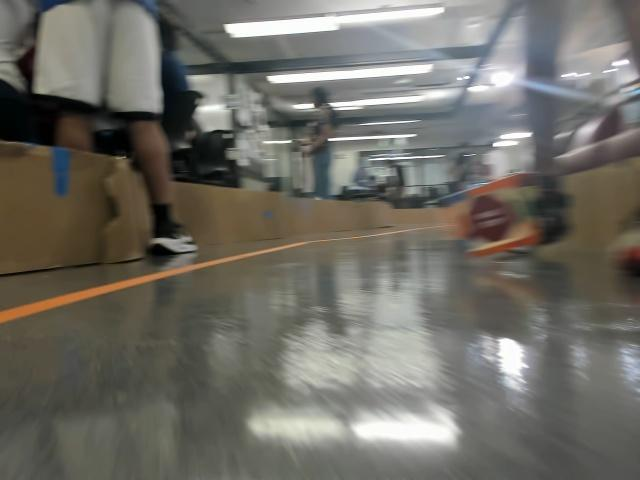Fake Stop: (461, 201, 503, 246)
